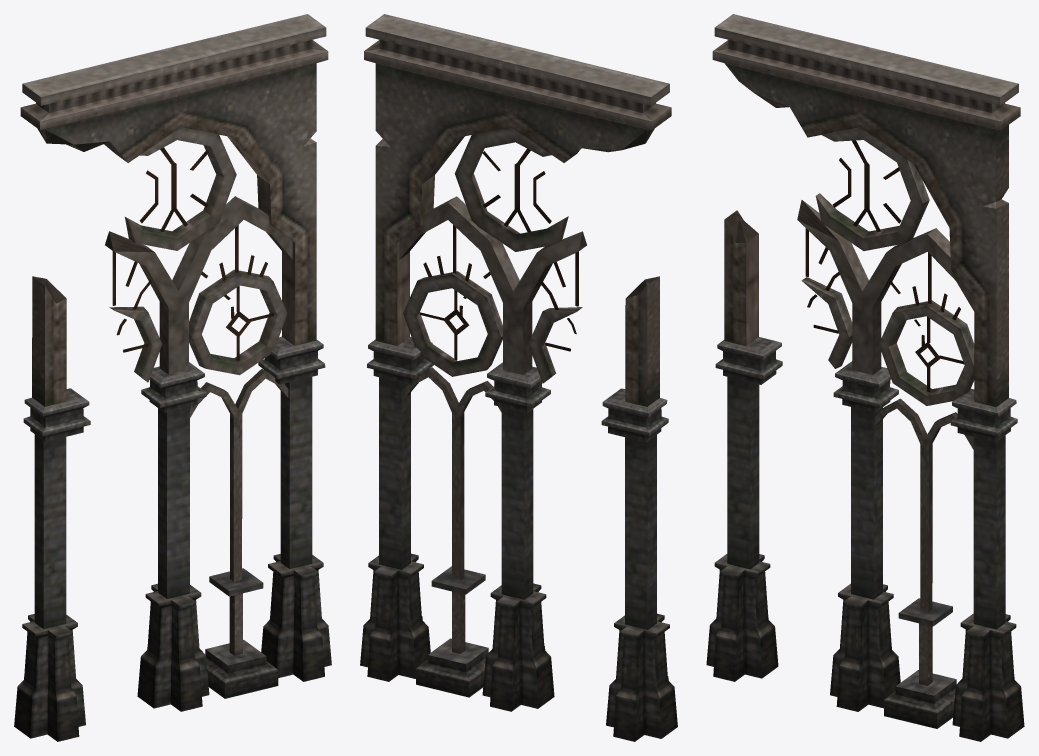
The model's file is SM_zhucheng_baiqiang03.FBX.
3 renders of one model, left to right at view 1: azimuth 30°, elevation 25°; view 2: azimuth 150°, elevation 25°; view 3: azimuth 330°, elevation 25°, orthographic.
Visible parts, largest first — view 1: SM_zhucheng_baiqiang03; view 2: SM_zhucheng_baiqiang03; view 3: SM_zhucheng_baiqiang03.
Boxes of the visible parts, x1=… form: SM_zhucheng_baiqiang03: x1=14, y1=14, x2=331, y2=741; SM_zhucheng_baiqiang03: x1=360, y1=14, x2=677, y2=741; SM_zhucheng_baiqiang03: x1=706, y1=14, x2=1024, y2=741.
Size of the model in its own units: 169 by 344 by 35.32.
